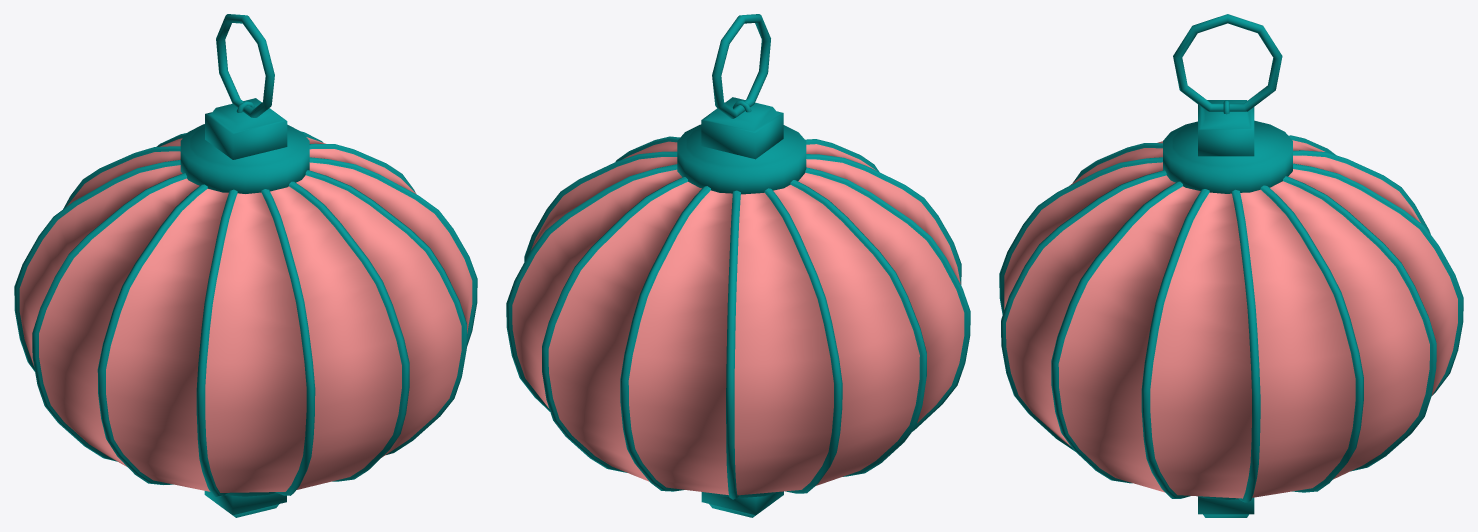
3 views of the same model, side by side, from view 1: azimuth 30°, elevation 25°; view 2: azimuth 150°, elevation 25°; view 3: azimuth 270°, elevation 25° (orthographic).
Visible parts, largest first — view 1: 1_low001; view 2: 1_low001; view 3: 1_low001.
Boxes of the visible parts, bbox=[...] form: 1_low001: bbox=[14, 14, 477, 517]; 1_low001: bbox=[506, 14, 970, 517]; 1_low001: bbox=[999, 14, 1463, 517].
Size of the model in its own units: 1429 by 1695 by 1418.
